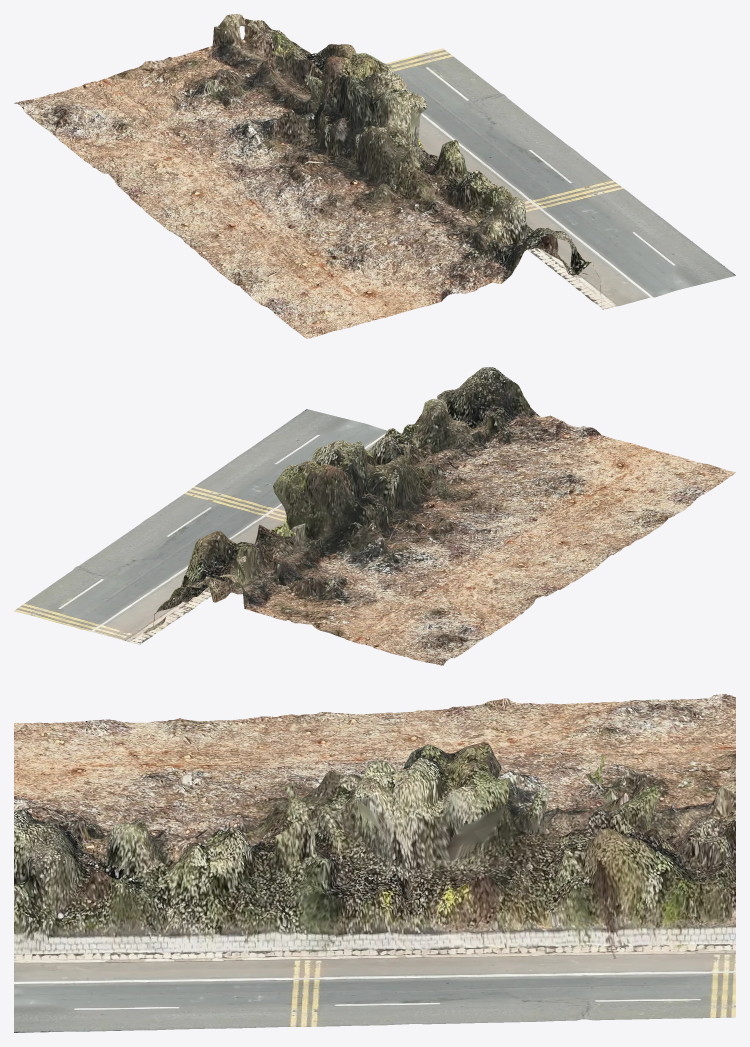
The model's file is BlockBY_L20_237.glb.
3 views of the same model, one above another, from view 1: azimuth 30°, elevation 25°; view 2: azimuth 150°, elevation 25°; view 3: azimuth 270°, elevation 25° (orthographic). The views are drawn at different scales.
Visible parts, largest first — view 1: rtc; view 2: rtc; view 3: rtc.
Boxes of the visible parts, x1,y1,x2,y2 form: rtc: (14,14,735,338); rtc: (14,367,735,665); rtc: (14,694,735,1032).
Size of the model in its own units: 34.99 by 10.39 by 41.35.
Materials: 5 (5 with a texture image).
